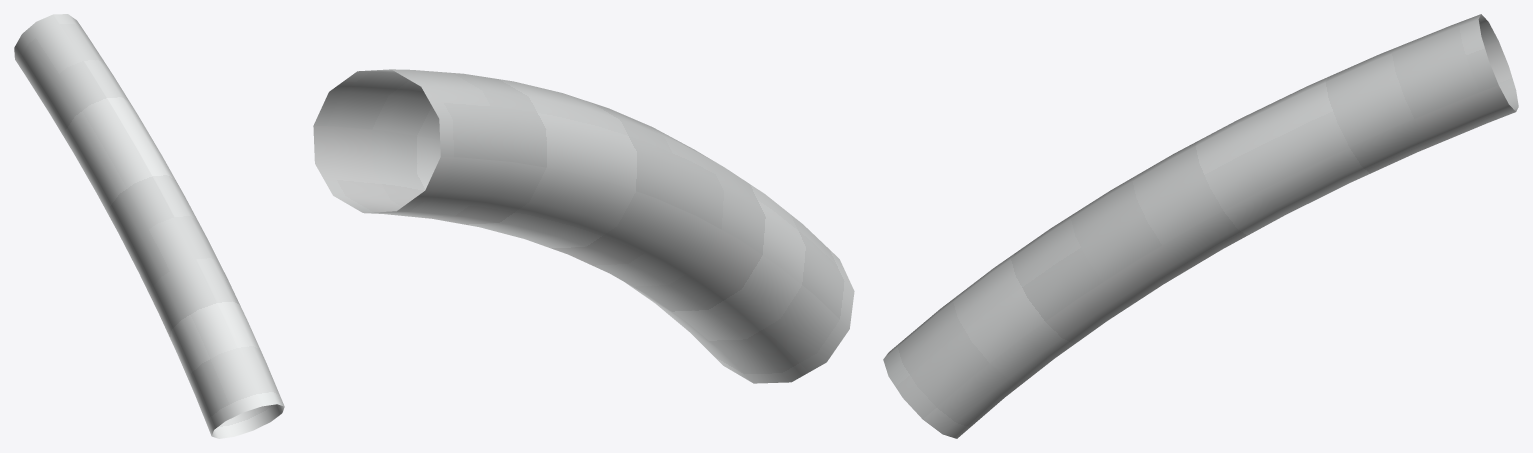
Rendered from luminairearm_vannuystriple_c5.obj.
3 views of the same model, side by side, from view 1: azimuth 30°, elevation 25°; view 2: azimuth 150°, elevation 25°; view 3: azimuth 270°, elevation 25° (orthographic). The views are drawn at different scales.
Visible parts, largest first — view 1: luminairearm_vannuystriple_c5; view 2: luminairearm_vannuystriple_c5; view 3: luminairearm_vannuystriple_c5.
Part boxes in pixels (box(x1,y1,x2,y2)): luminairearm_vannuystriple_c5: box(14, 14, 284, 438); luminairearm_vannuystriple_c5: box(313, 69, 854, 383); luminairearm_vannuystriple_c5: box(883, 14, 1518, 438).
Bounding box in the file's own units: 0.1953 × 0.7907 × 1.1.
